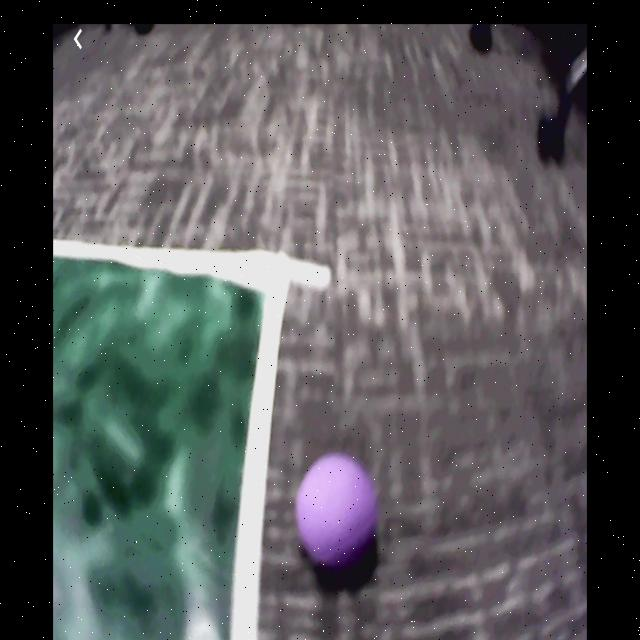ball: (295, 451, 380, 579)
